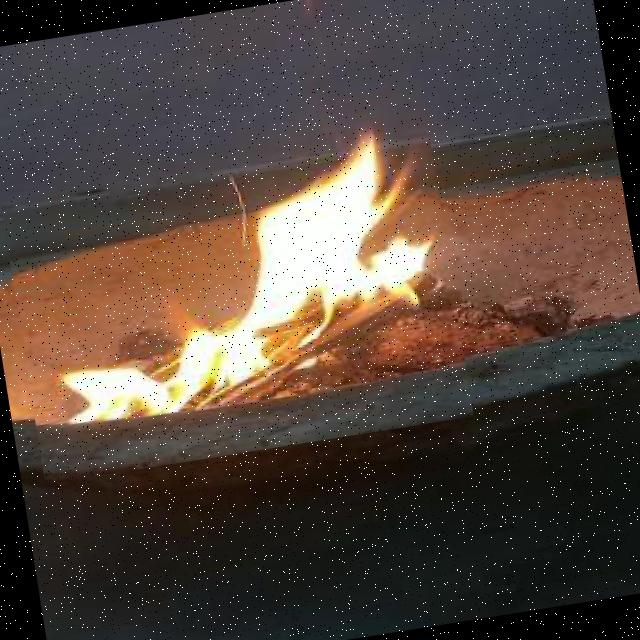fire: (0, 84, 474, 484)
